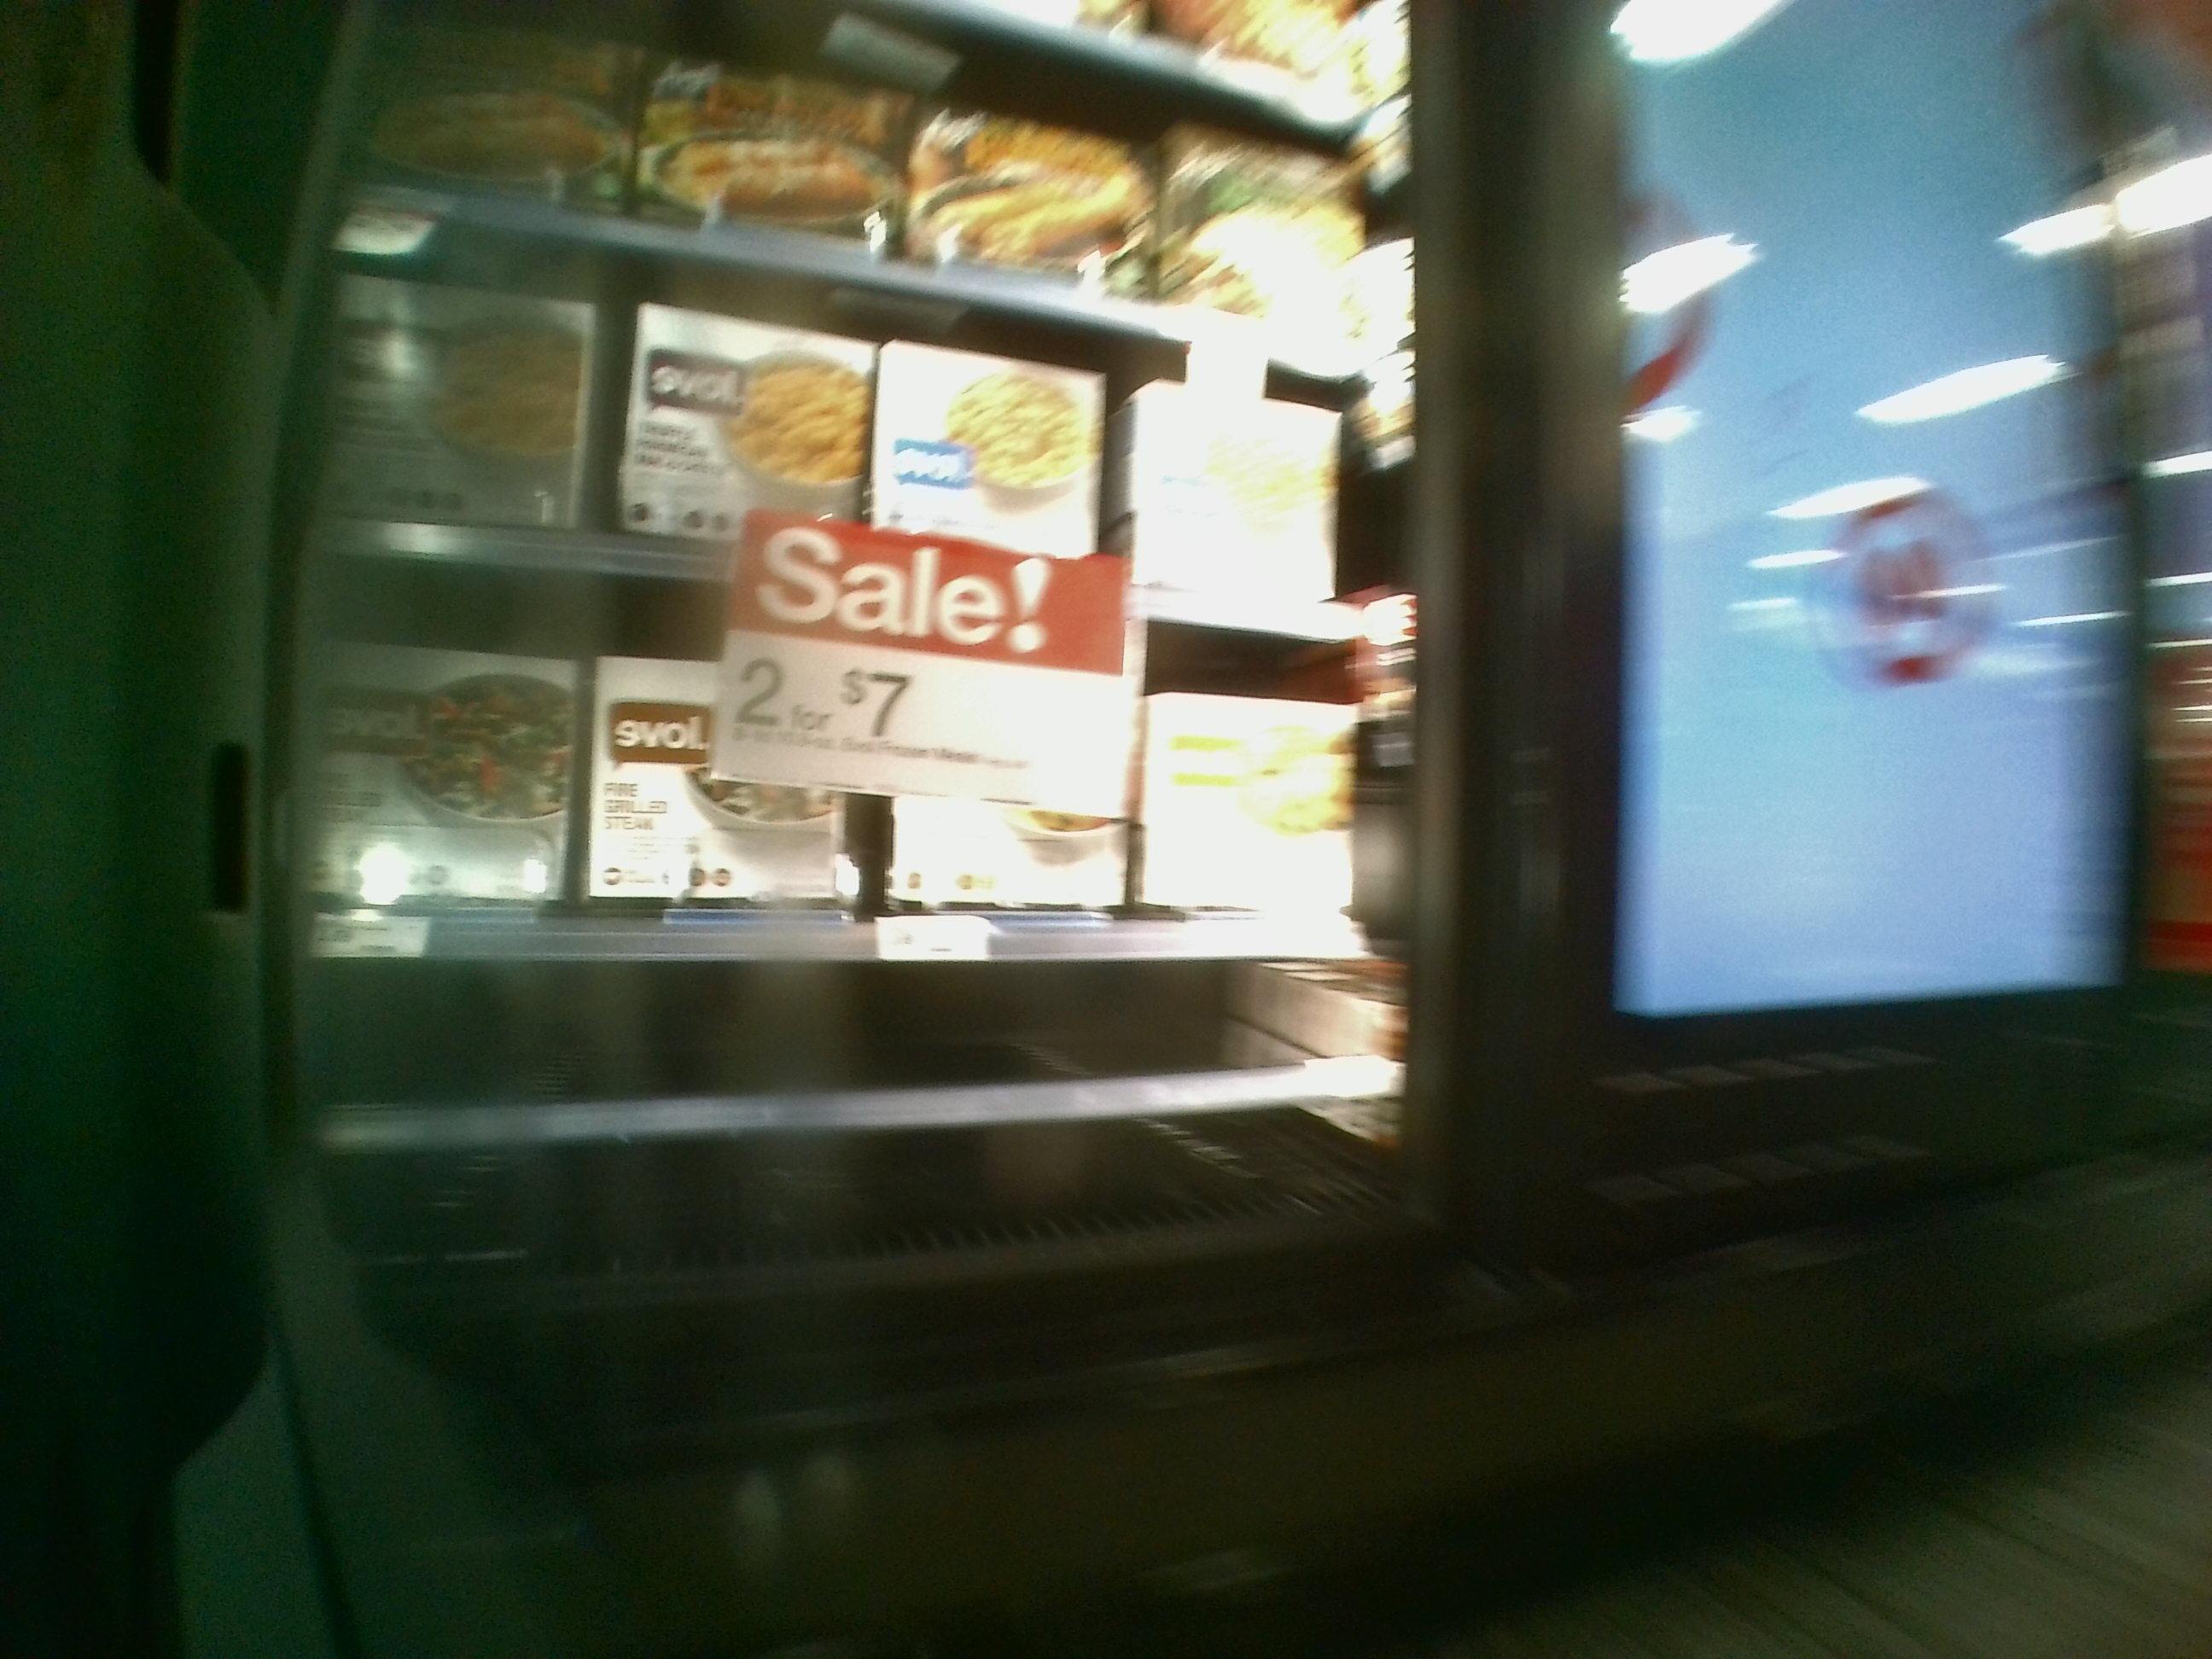shelf: (310, 615, 1392, 964), (333, 324, 1392, 613), (327, 953, 1393, 1232)
